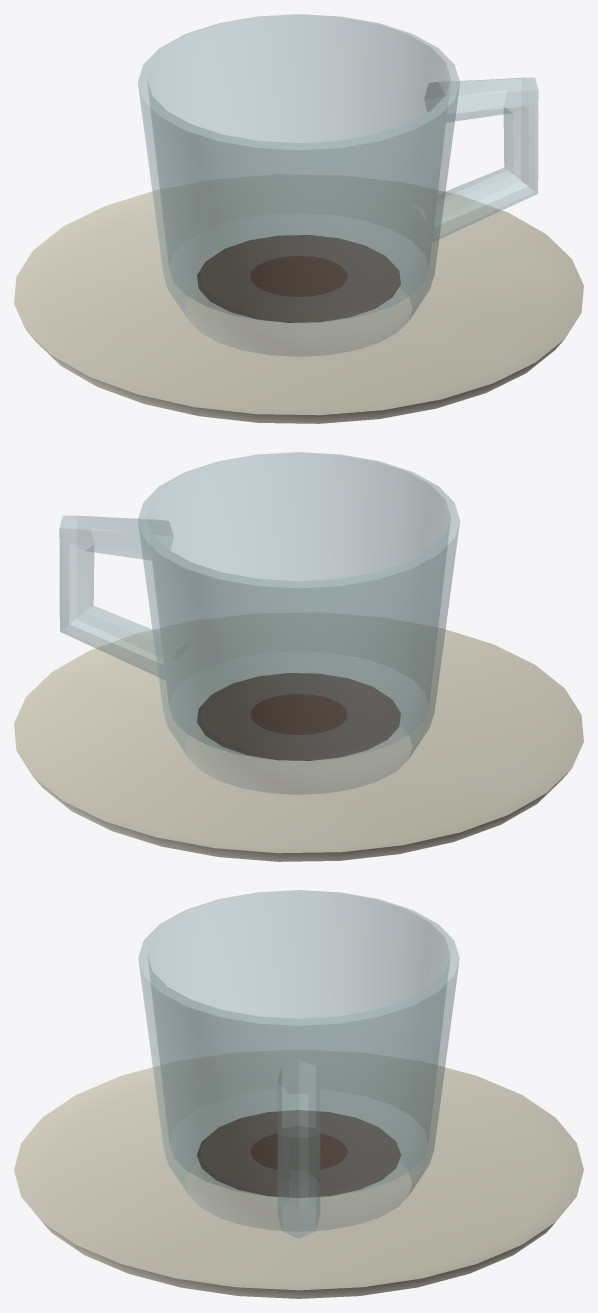
Rendered from food-milk-tea-s3.glb.
The picture shows the model from 3 angles, top to bottom: view 1: azimuth 30°, elevation 25°; view 2: azimuth 150°, elevation 25°; view 3: azimuth 270°, elevation 25°; orthographic projection.
Visible parts, largest first — view 1: mug__glass, saucer__ceramic, liquid__sauce; view 2: mug__glass, saucer__ceramic, liquid__sauce; view 3: saucer__ceramic, mug__glass, liquid__sauce.
Boxes of the visible parts, x1,y1,x2,y2 form: mug__glass: (138, 14, 538, 356); saucer__ceramic: (14, 174, 583, 423); liquid__sauce: (197, 235, 400, 322); mug__glass: (59, 452, 459, 794); saucer__ceramic: (14, 612, 583, 861); liquid__sauce: (197, 673, 400, 760); saucer__ceramic: (14, 1049, 583, 1298); mug__glass: (138, 890, 459, 1238); liquid__sauce: (197, 1110, 400, 1197).
Size of the model in its own units: 0.156 by 0.077 by 0.156.
